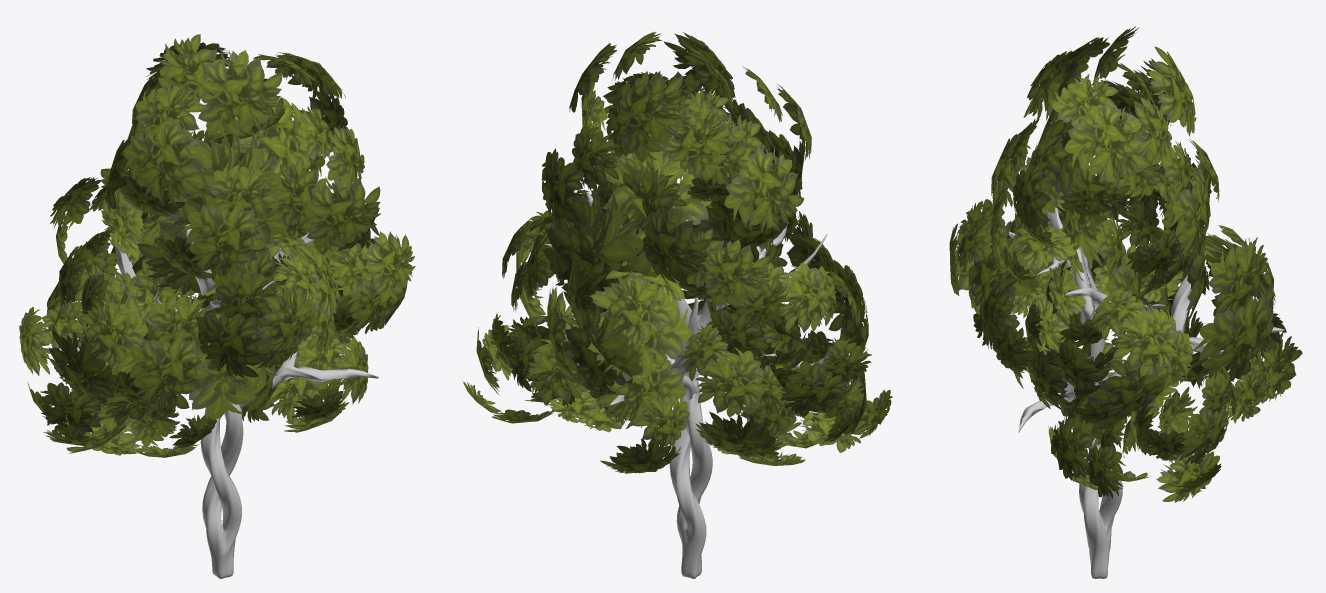
File: SM_Prop_Tree3.fbx
The picture shows the model from 3 angles, left to right: view 1: azimuth 30°, elevation 25°; view 2: azimuth 150°, elevation 25°; view 3: azimuth 270°, elevation 25°; orthographic projection.
Visible parts, largest first — view 1: SM_Prop_Tree3; view 2: SM_Prop_Tree3; view 3: SM_Prop_Tree3.
Part boxes in pixels (x1,y1,x2,y2): SM_Prop_Tree3: (19, 34, 415, 578); SM_Prop_Tree3: (462, 32, 892, 578); SM_Prop_Tree3: (949, 26, 1302, 578).
Size of the model in its own units: 7.84 by 10.78 by 6.64.
